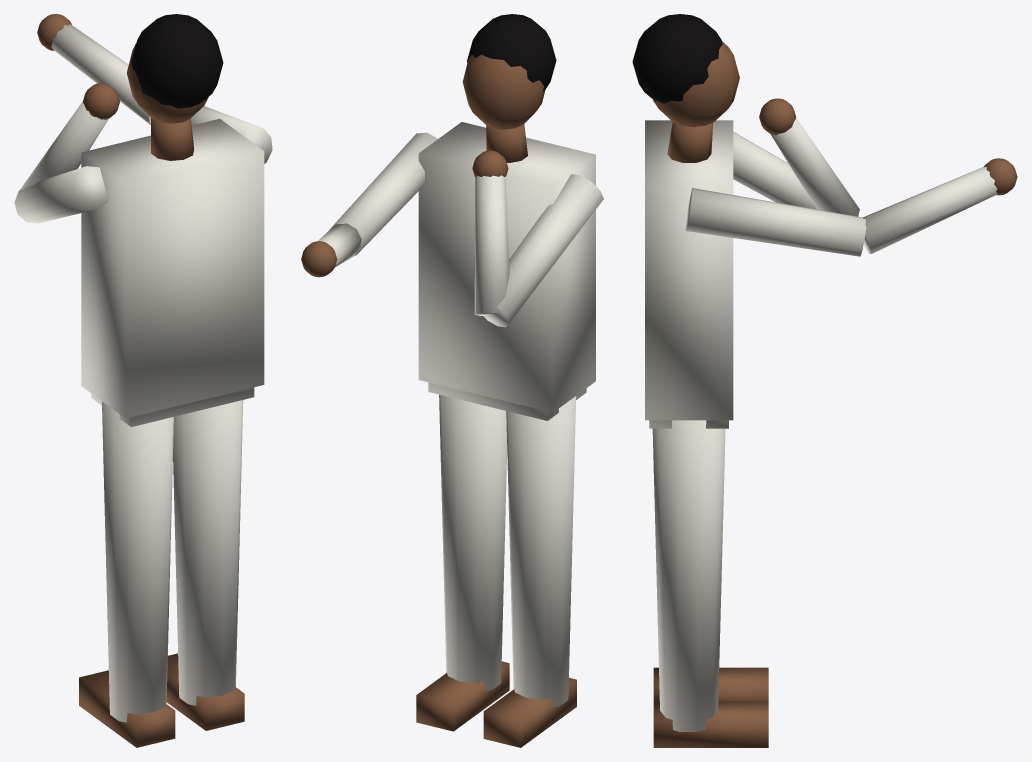
File: musico_trombon.obj
The picture shows the model from 3 angles, left to right: view 1: azimuth 30°, elevation 25°; view 2: azimuth 150°, elevation 25°; view 3: azimuth 270°, elevation 25°; orthographic projection. The views are drawn at different scales.
Visible parts, largest first — view 1: musico_trombon; view 2: musico_trombon; view 3: musico_trombon.
Part boxes in pixels (x1,y1,x2,y2): musico_trombon: (14, 14, 272, 747); musico_trombon: (301, 14, 603, 747); musico_trombon: (632, 14, 1017, 747).
Bounding box in the file's own units: 0.5148 × 1.76 × 0.87.
3 materials, 3 textured.
